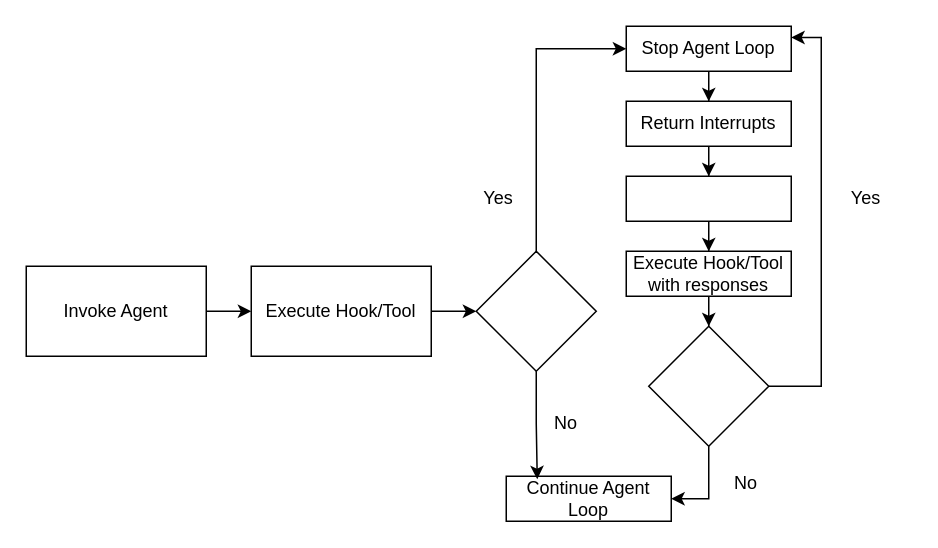
Some shapes in this 938 by 548 pixel diagram are drawn without their labels. The box of each missing label's shape, as (x1, y1, x2, y2) in pixels:
Interrupts Raised?: (475, 250, 596, 371)
New Interrupts?: (647, 325, 769, 446)
Respond to Interrupts: (625, 175, 791, 221)
